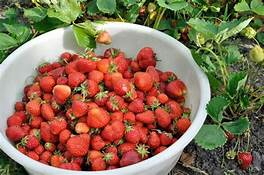Fresa: (65, 130, 92, 158), (119, 145, 150, 168), (164, 76, 189, 99), (80, 77, 103, 99), (153, 105, 172, 129), (70, 98, 90, 120), (52, 83, 73, 103), (21, 133, 43, 152), (127, 95, 148, 114), (40, 101, 57, 123), (124, 125, 141, 146), (93, 89, 110, 107), (104, 151, 121, 166)
